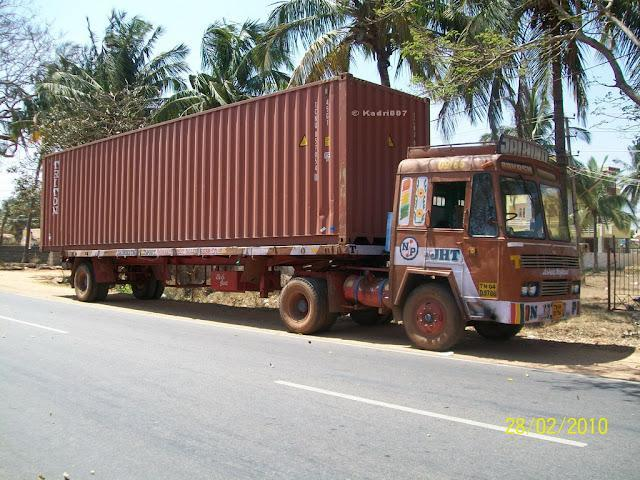truck: (15, 134, 576, 316)
